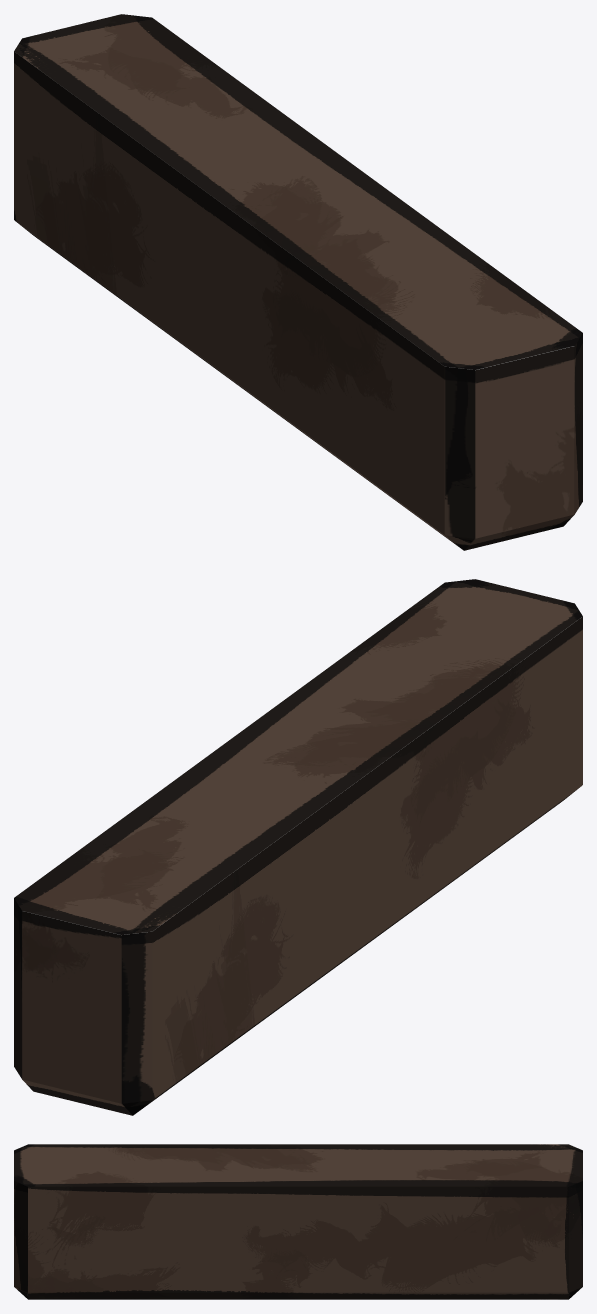
File: 1-Windowsill.fbx
The picture shows the model from 3 angles, top to bottom: view 1: azimuth 30°, elevation 25°; view 2: azimuth 150°, elevation 25°; view 3: azimuth 270°, elevation 25°; orthographic projection. The views are drawn at different scales.
Parts seen in each view (by area): view 1: Cube.003; view 2: Cube.003; view 3: Cube.003.
Part boxes in pixels (left/top/right/bottom): Cube.003: left=14, top=14, right=582, bottom=550; Cube.003: left=14, top=579, right=582, bottom=1115; Cube.003: left=14, top=1144, right=582, bottom=1299.
Bounding box in the file's own units: 41.31 × 53.96 × 235.
Materials: 1 (1 with a texture image).
